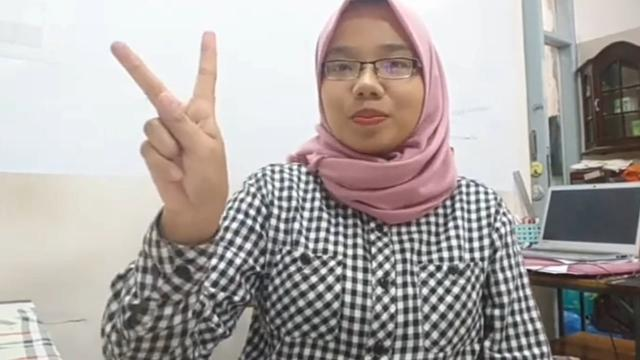K: (108, 31, 230, 215)
